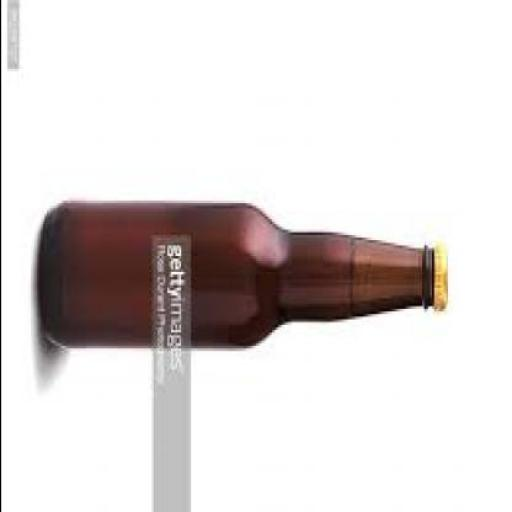glass: (36, 198, 433, 351)
metal: (432, 248, 448, 306)
